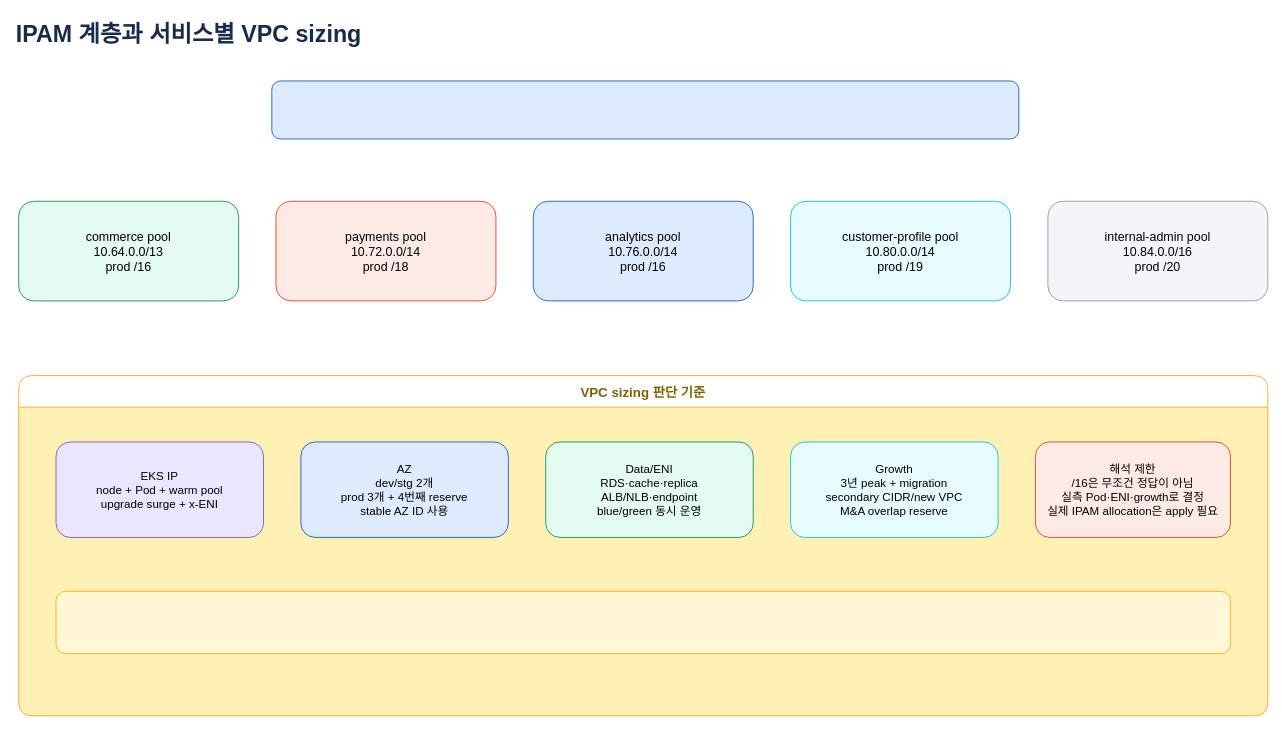
This 1282x730 diagram has some shape labels left out. Here are the shapes that lost their labels. From the top down, the centre of each, then its label:
the point at 645,109: ap-northeast-2 enterprise pool · 10.64.0.0/10
the point at 642,622: Address reserve: 10.85.0.0 이후는 신규 서비스·추가 리전·migration 용도로 즉시 할당하지 않습니다.
